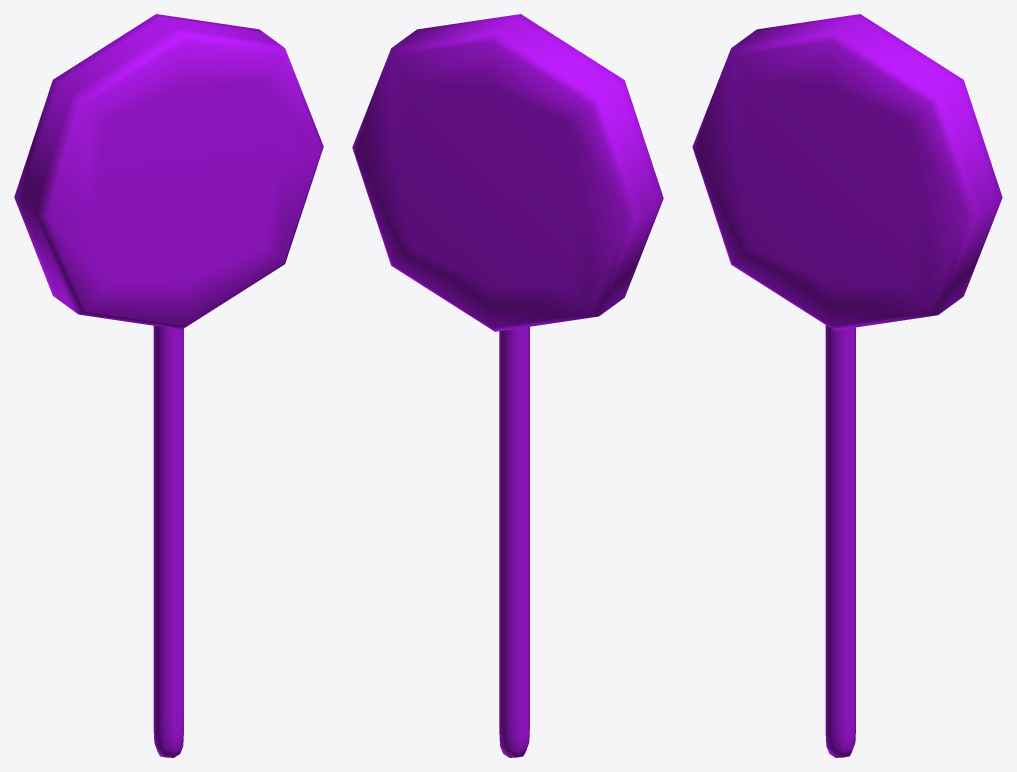
File: Paleta_02.fbx
3 views of the same model, side by side, from view 1: azimuth 30°, elevation 25°; view 2: azimuth 150°, elevation 25°; view 3: azimuth 330°, elevation 25° (orthographic).
Parts seen in each view (by area): view 1: Paleta_02; view 2: Paleta_02; view 3: Paleta_02.
Part boxes in pixels (x1,y1,x2,y2): Paleta_02: (14,14,323,757); Paleta_02: (352,14,663,757); Paleta_02: (692,14,1002,757).
Size of the model in its own units: 124 by 304 by 26.59.
